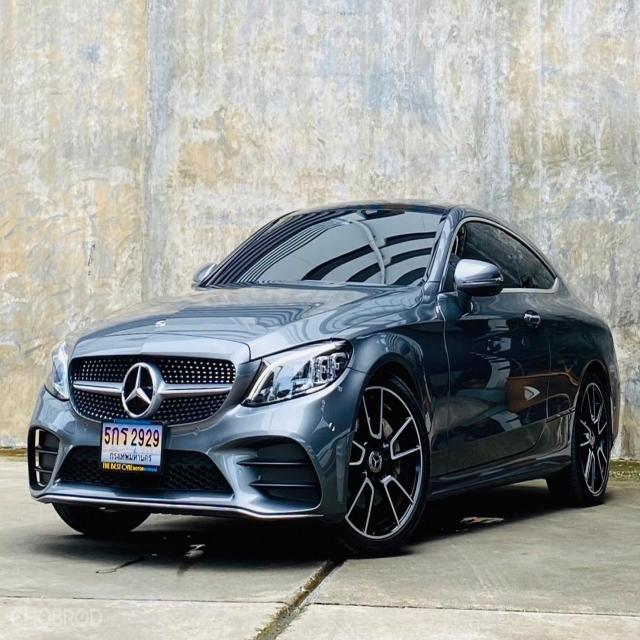license_plate: (99, 417, 169, 475)
